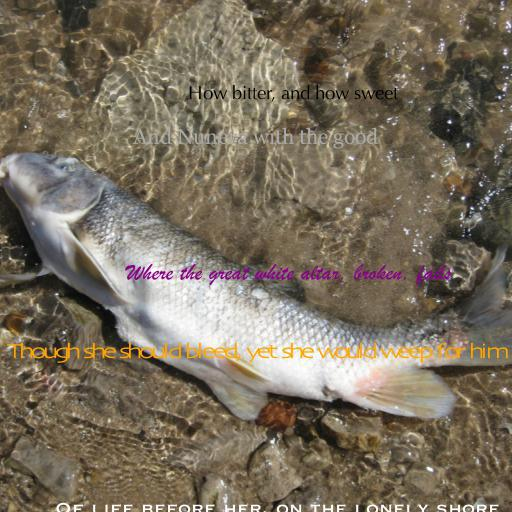Brush Script MT: (125, 263, 451, 286)
Copperplate: (54, 502, 500, 512)
Georgia: (132, 127, 378, 149)
Optima: (188, 85, 398, 103)
Skia: (6, 342, 504, 363)
